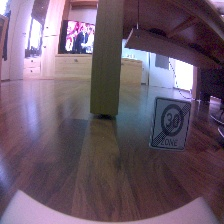dreisiger_zone_ende: (149, 96, 192, 152)
